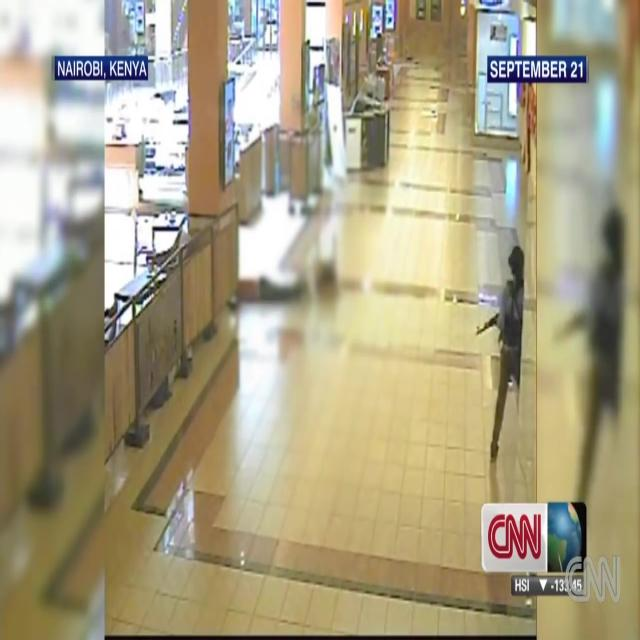Weapon: (470, 302, 522, 348)
